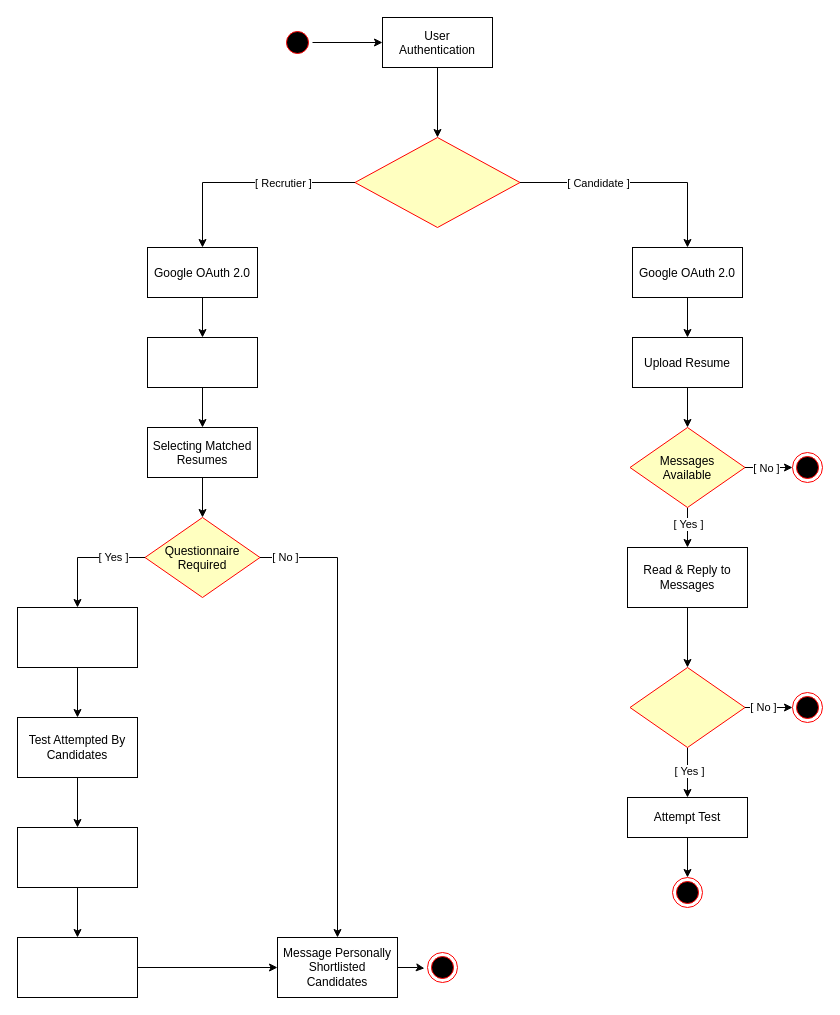
Image size: 840x1015. Some labels were removed from this diagram. Here are the shapes that lost their labels. From the top down, the box of each, then its label:
(354, 136, 520, 228): Candidate or Recruiter
(146, 336, 258, 388): Enter Query
(16, 606, 138, 668): Create Questionnaire
(629, 666, 745, 748): Questionnaire Available
(16, 826, 138, 888): Scores Collected
(16, 936, 138, 998): Get Final Ranked List
